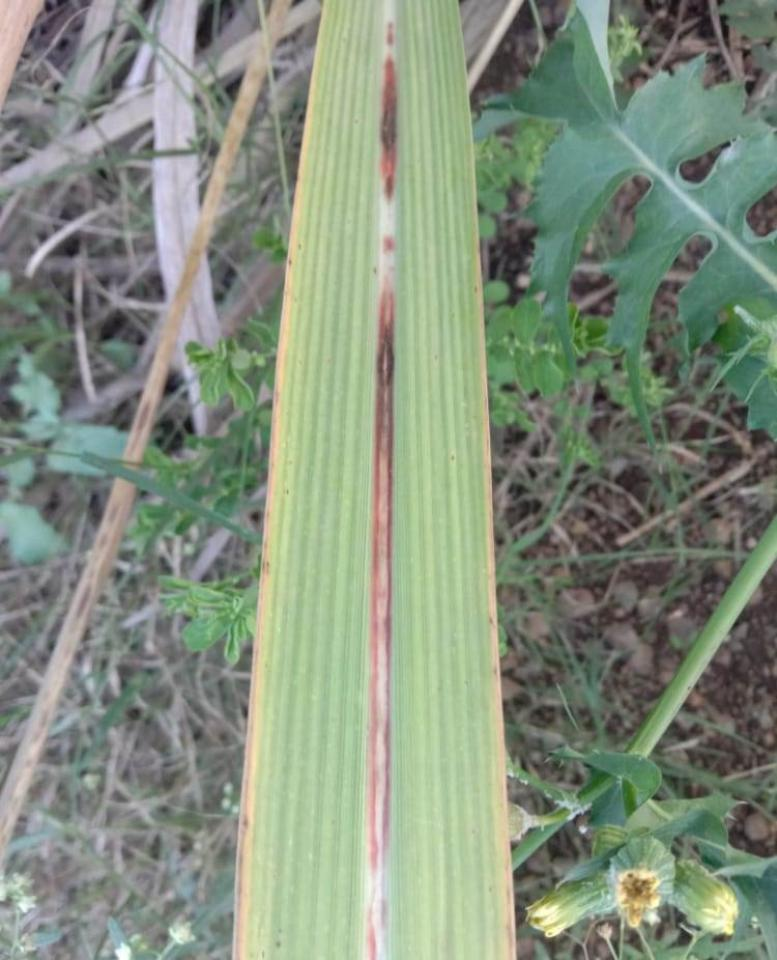RedRot: (365, 19, 395, 959)
